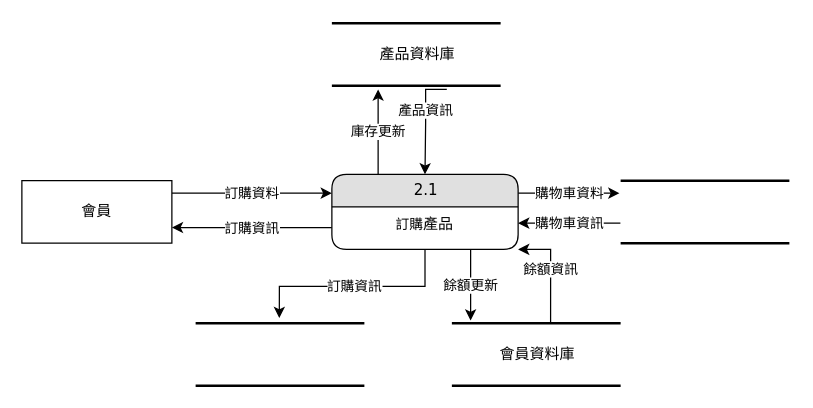
Some shapes in this 813 by 408 pixel diagram are drawn without their labels. Each missing label, with the centre of its shape:
"交易資料庫" belongs at pixel 279 353.
"購物車資料庫" belongs at pixel 704 211.
